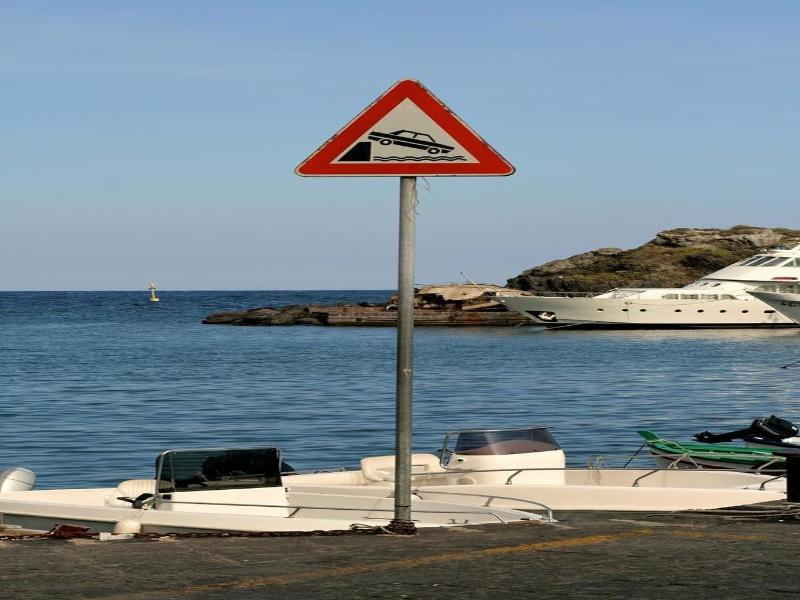cliff_edge: (297, 76, 526, 195)
